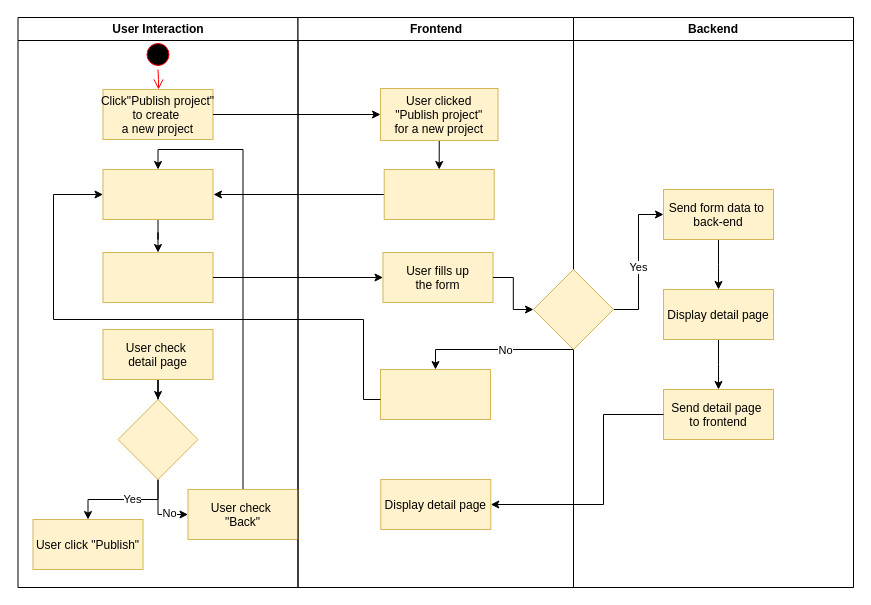
This 871x605 diagram has some shape labels left out. The centre of each missing label's shape, as x and y in pixels:
Display error message: (435,394)
Display project creation form: (438,194)
Fill up the project creation form: (157,194)
Is the form complete?: (573,309)
Is the info correct?: (157,439)
User click "Next": (157,277)
